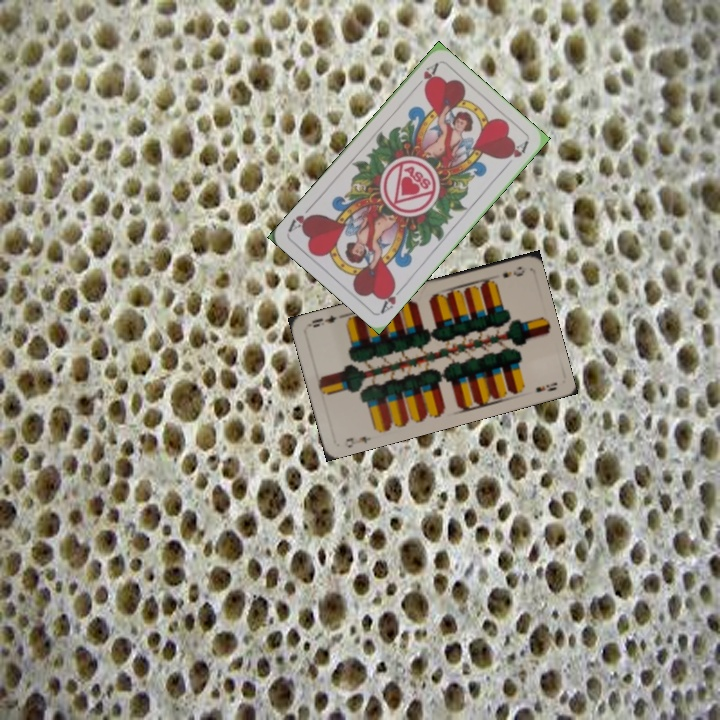E9: (342, 432, 374, 451), (498, 262, 527, 281)
HA: (409, 59, 441, 93), (377, 280, 407, 316)
